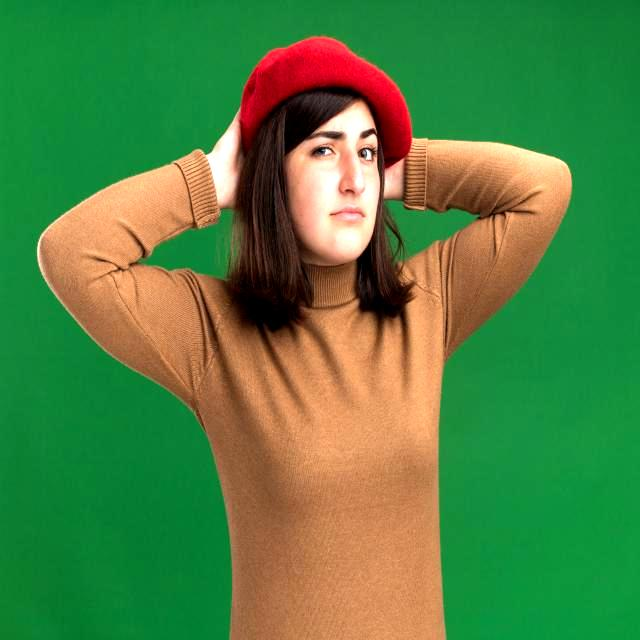no_hard_hat: (240, 37, 412, 168)
person: (38, 37, 571, 640)
